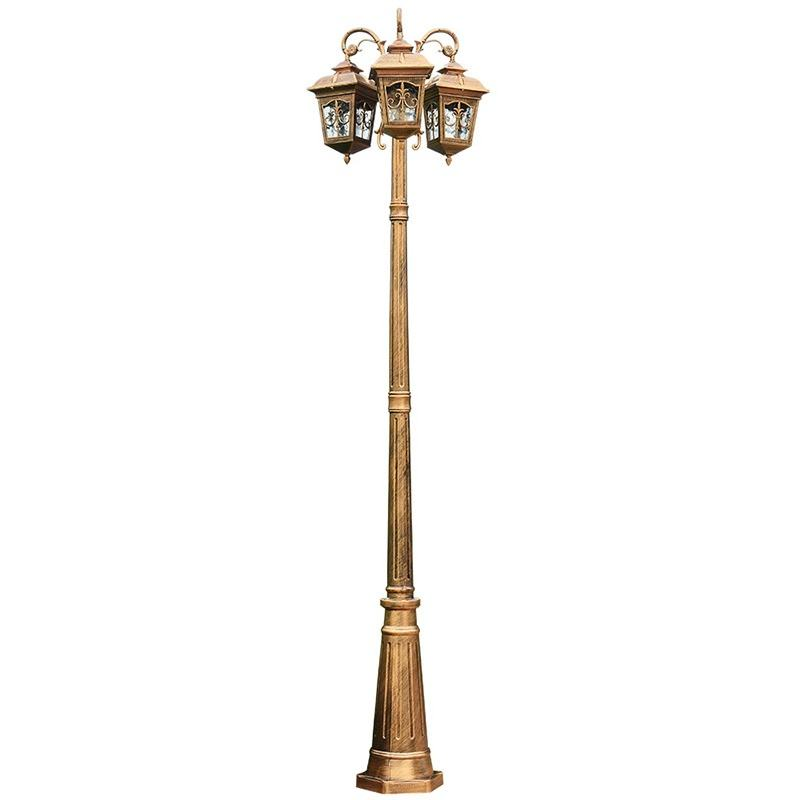light_pole: (357, 33, 441, 800)
